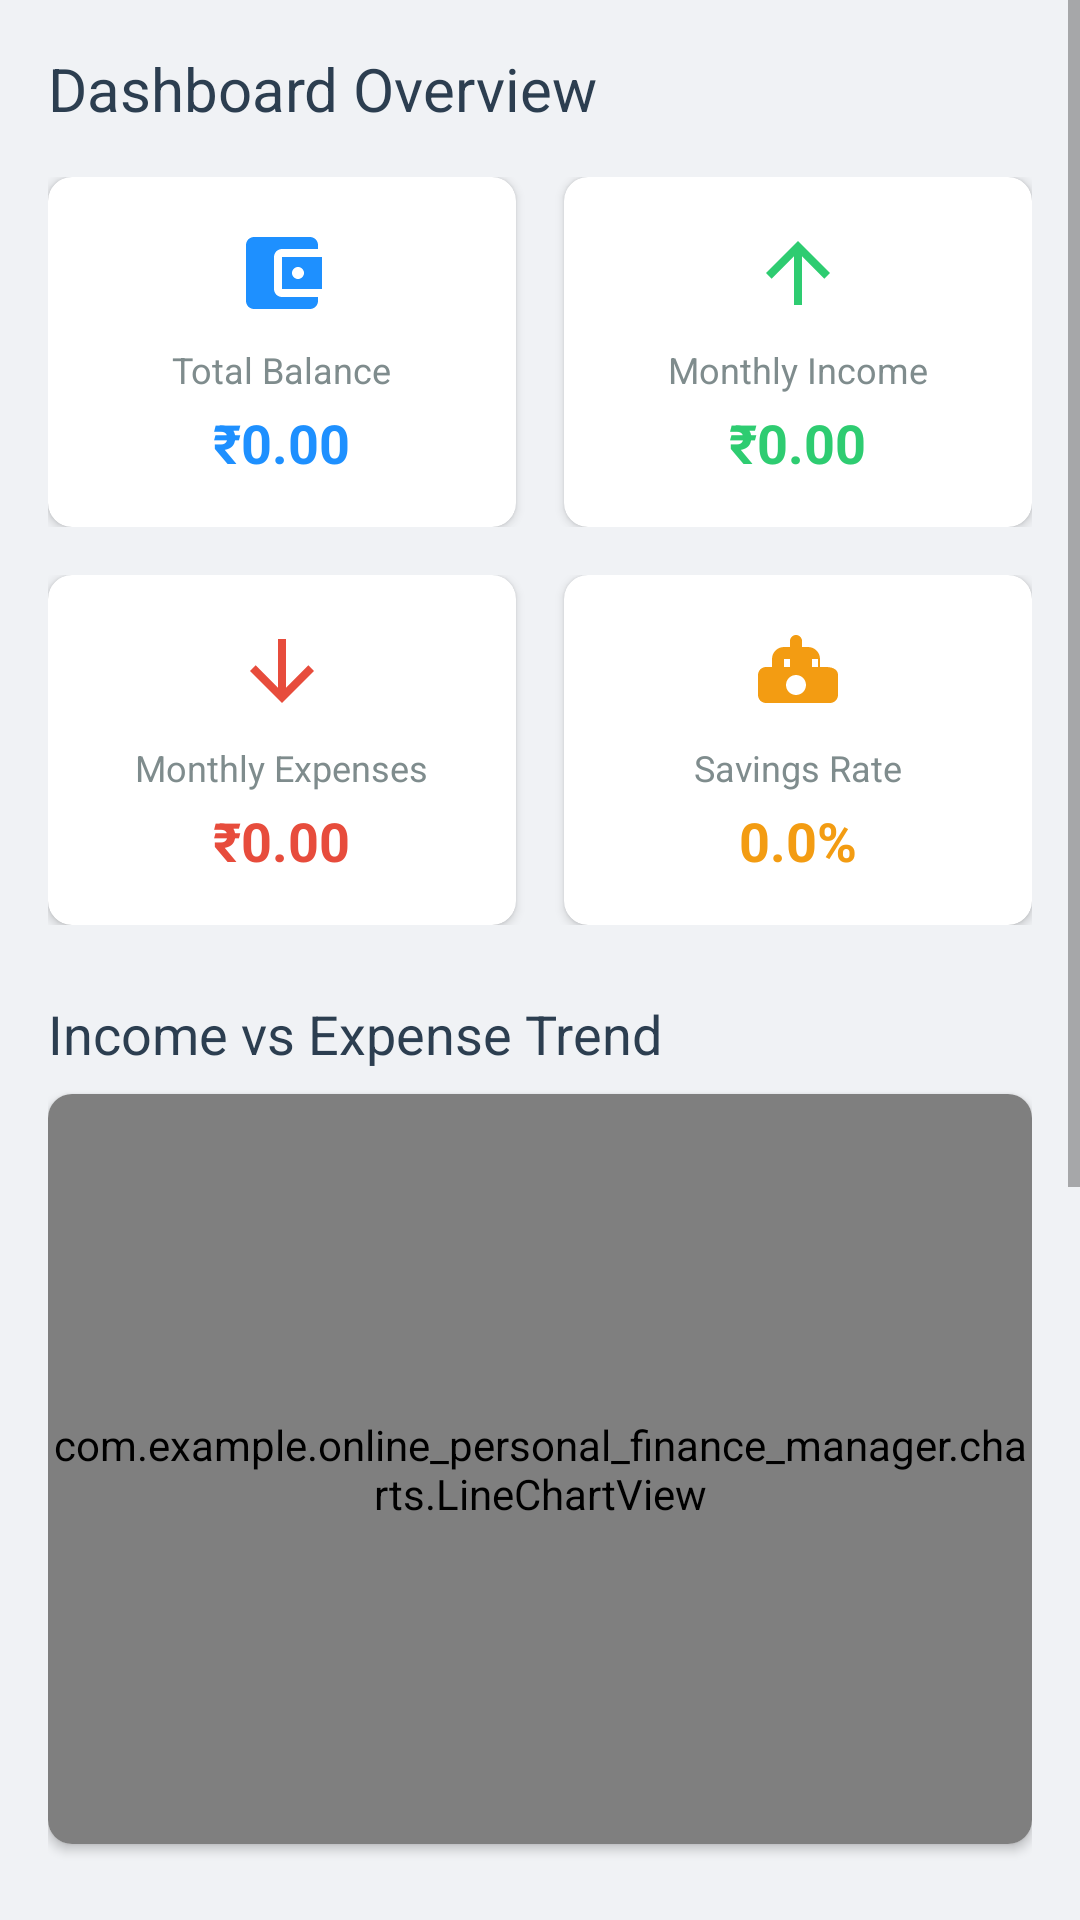

Icon click points for this 1080x1920 phone screenshot, format [x,y]:
arrow down: [282,671]
arrow up: [798,273]
wallet: [284,273]
